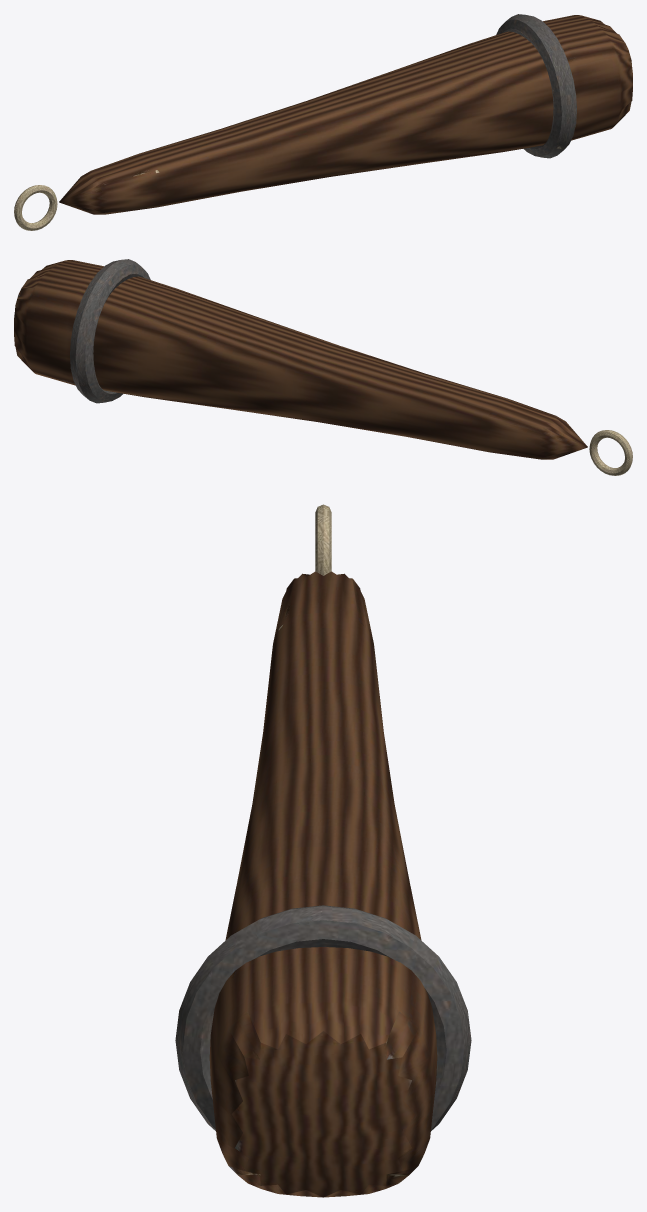
File: priest.glb
3 views of the same model, one above another, from view 1: azimuth 30°, elevation 25°; view 2: azimuth 150°, elevation 25°; view 3: azimuth 270°, elevation 25° (orthographic). The views are drawn at different scales.
Visible parts, largest first — view 1: priest, lead_band, lanyard; view 2: priest, lead_band, lanyard; view 3: priest, lead_band, lanyard.
Boxes of the visible parts, x1,y1,x2,y2 form: priest: (59,15,632,214); lead_band: (496,14,576,158); lanyard: (14,185,57,230); priest: (14,260,587,459); lead_band: (70,259,150,403); lanyard: (589,430,632,475); priest: (209,571,437,1197); lead_band: (175,905,471,1130); lanyard: (315,504,331,575).
Size of the model in its own units: 0.3411 by 0.072 by 0.072.
1 material, 1 textured.
